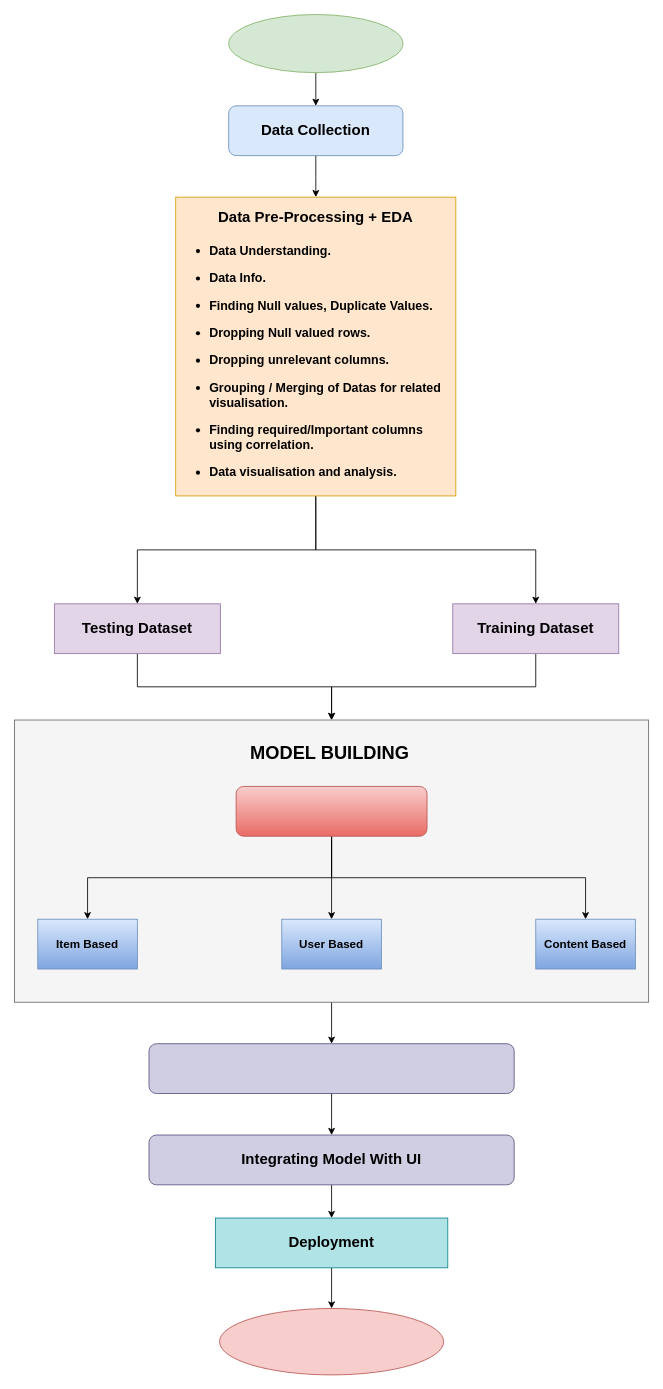
Some shapes in this 663 by 1389 pixel diagram are drawn without their labels. Each missing label, with the centre of its shape:
Analyzing Results: (331,1068)
COLLABORATIVE FILTERING: (331,811)
Start: (315,43)
Stop: (331,1341)
